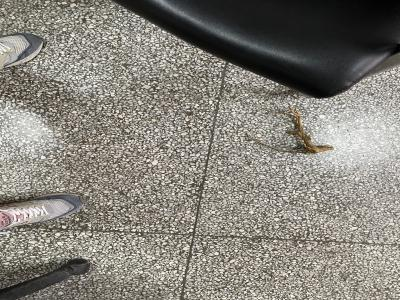Root: (246, 106, 334, 154)
